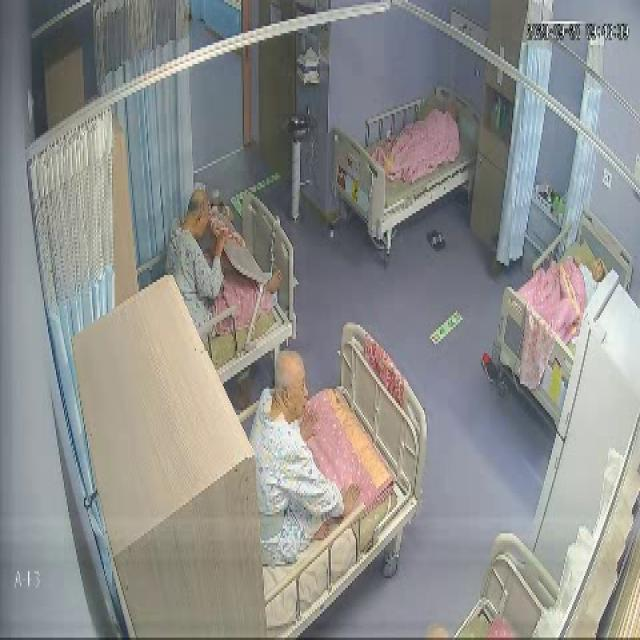bed: (232, 327, 428, 640), (493, 210, 632, 425), (162, 200, 294, 384), (336, 82, 478, 240)
patient: (240, 350, 330, 570), (162, 182, 281, 340)
sit: (239, 349, 358, 568), (163, 181, 281, 340)
